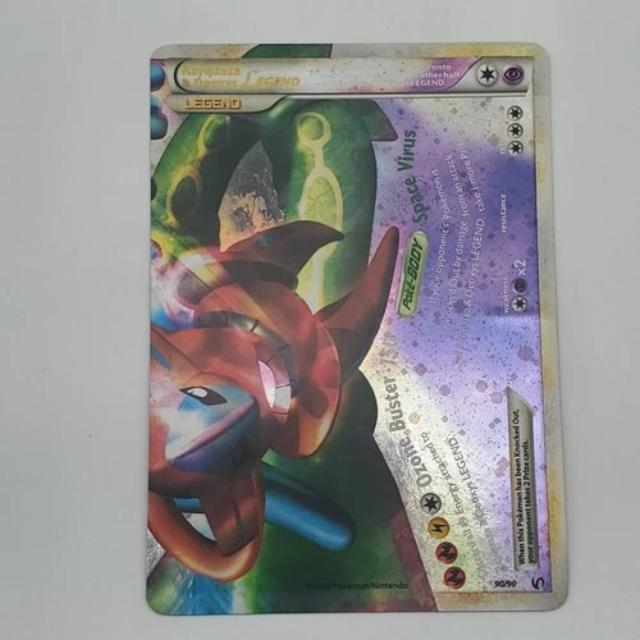Card: (143, 36, 575, 620)
Name: (173, 58, 304, 96)
